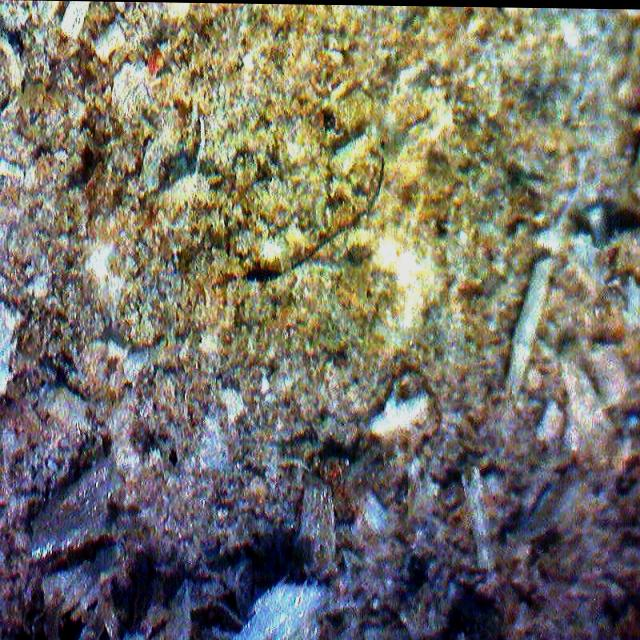microplastic: (266, 156, 404, 282)
